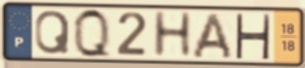2: (115, 10, 151, 58)
A: (190, 11, 235, 61)
H: (151, 10, 194, 60), (233, 12, 273, 61)
Q: (71, 6, 114, 62), (34, 9, 72, 57)
